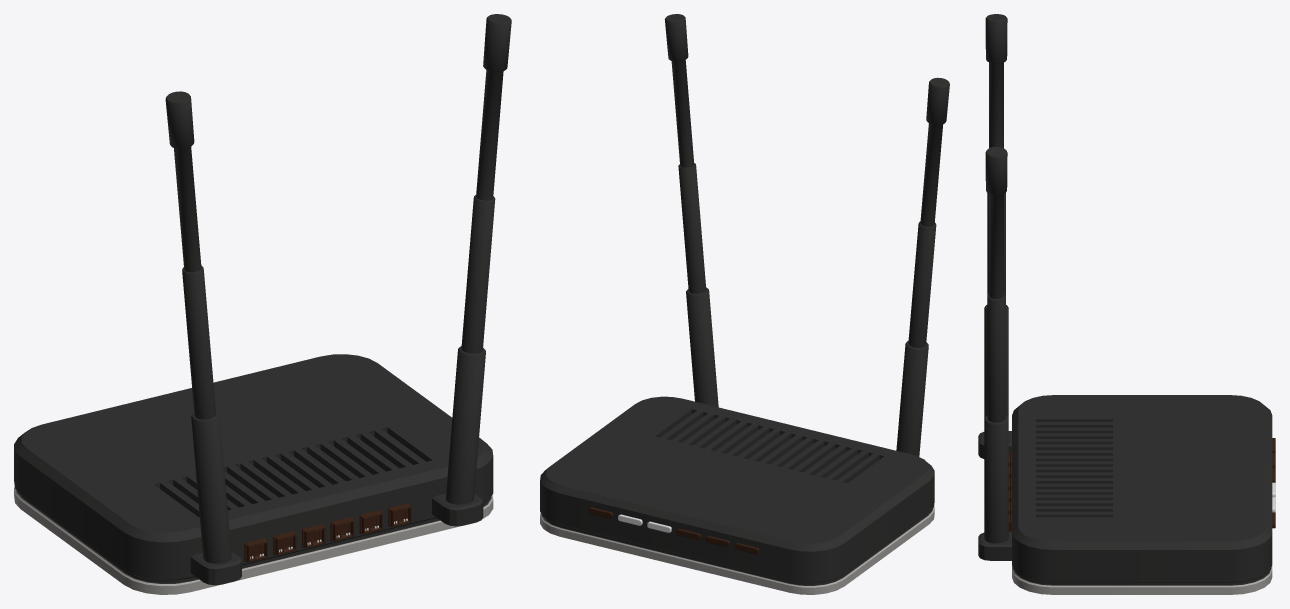
File: router.glb
3 renders of one model, left to right at view 1: azimuth 30°, elevation 25°; view 2: azimuth 150°, elevation 25°; view 3: azimuth 270°, elevation 25°, orthographic. The views are drawn at different scales.
Visible parts, largest first — view 1: Куб.020; view 2: Куб.020; view 3: Куб.020.
Boxes of the visible parts, x1,y1,x2,y2 form: Куб.020: [14, 14, 511, 594]; Куб.020: [540, 14, 949, 594]; Куб.020: [978, 14, 1275, 594].
Bounding box in the file's own units: 6.9 × 9.22 × 5.7.
